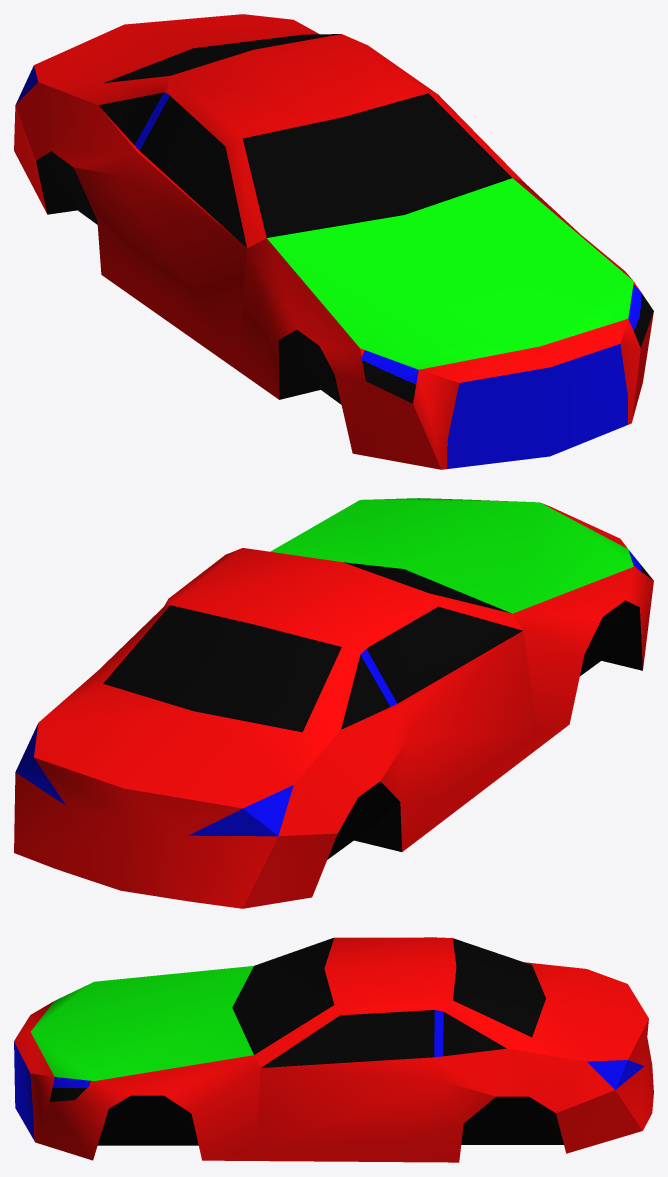
The model's file is roadster-lod2.glb.
3 views of the same model, one above another, from view 1: azimuth 30°, elevation 25°; view 2: azimuth 150°, elevation 25°; view 3: azimuth 270°, elevation 25° (orthographic). The views are drawn at different scales.
Parts seen in each view (by area): view 1: body; view 2: body; view 3: body.
Boxes of the visible parts, x1=… form: body: x1=14, y1=14, x2=653, y2=469; body: x1=14, y1=498, x2=653, y2=908; body: x1=14, y1=937, x2=653, y2=1162.
Size of the model in its own units: 2.14 by 1.26 by 5.19.
Materials: 1 (1 with a texture image).
